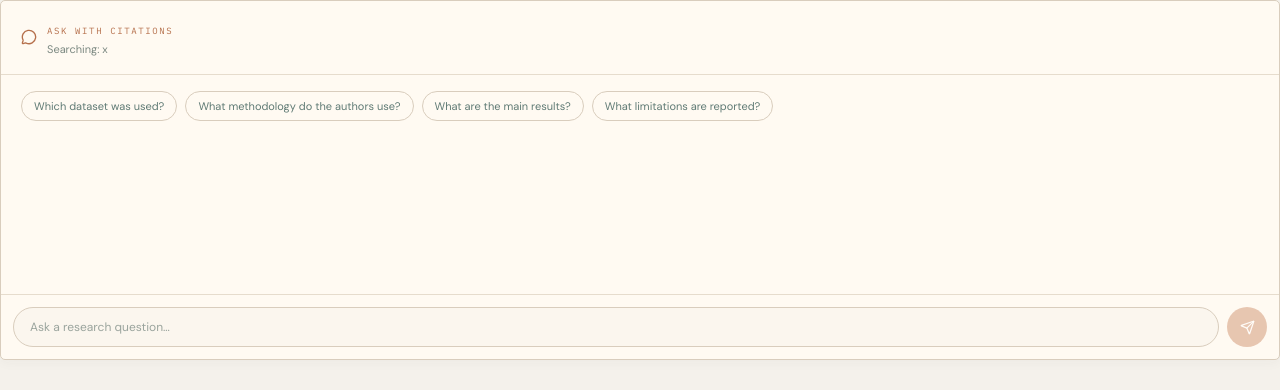
Test: ChatPanel › shows an answer-generation error while keeping retrieved evidence visible
This screenshot has width=1280, height=390.
Type "q" into the field labelled "research question".
click(616, 327); type("q")  # box [13,307,1219,347]
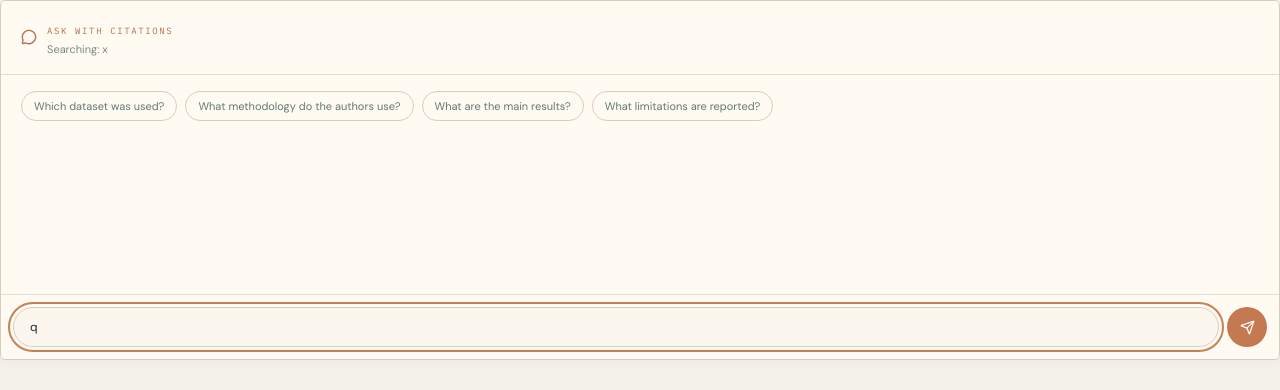
Click the button named "Send question".
click(1247, 327)  # box [1227,307,1267,347]
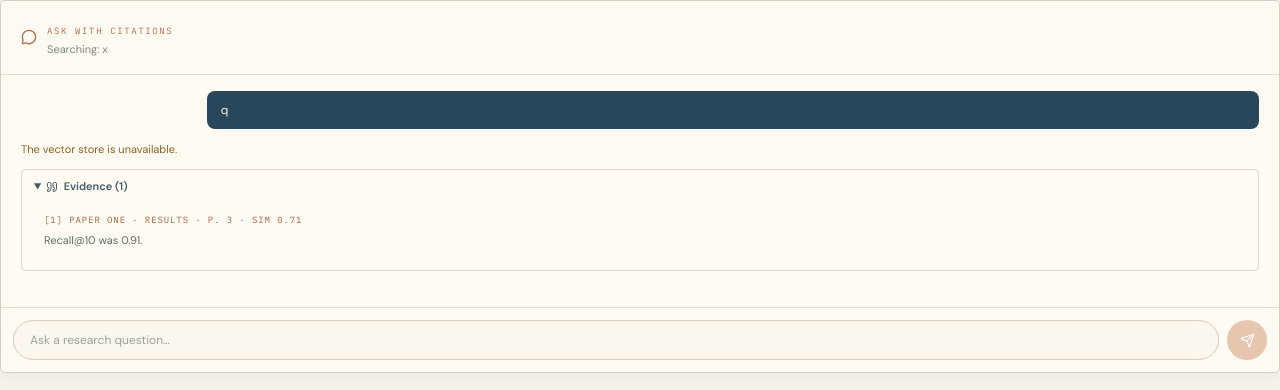
Result: the text "The vector store is unavailable." is shown at [21,142,177,156]
Result: the list item with test id "evidence-1" is shown at [34,202,1246,258]
